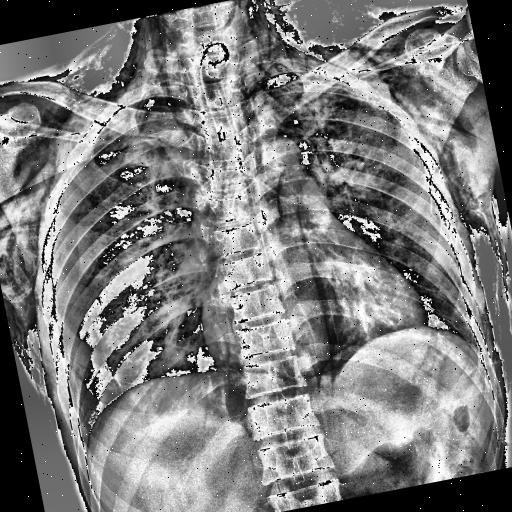0- Aortic enlargement: (236, 126, 310, 193)
12- Pneumothorax: (12, 66, 262, 436), (18, 81, 260, 434), (19, 114, 185, 451)
3- Cardiomegaly: (196, 266, 436, 384), (198, 268, 434, 378)
6- Infiltration: (264, 48, 472, 368)
7- Lung Opacity: (0, 32, 478, 430), (264, 48, 472, 368)
9- Other lesion: (454, 184, 512, 396), (457, 203, 512, 388), (58, 29, 160, 106), (46, 24, 144, 96), (268, 0, 387, 56), (8, 274, 60, 402), (264, 0, 336, 70), (8, 300, 56, 393)
